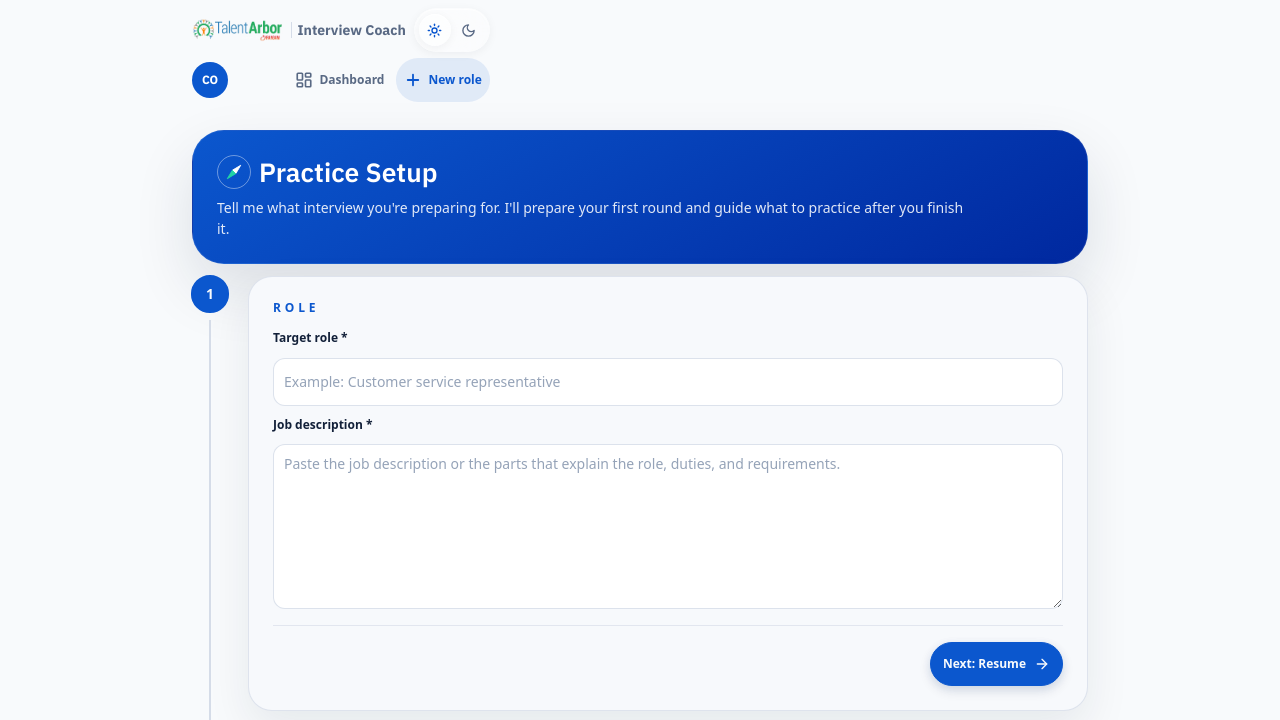
Test: places app-account logout inside the setup avatar instead of the navigation dock
This screenshot has width=1280, height=720.
Expected: the element named "Open account menu for Candidate One" is shown, [192,58,490,102]
Expected: the element named "Candidate" is shown, [287,58,490,102]
Click the button with aria-label "Open account menu for Candidate One". click: x=210, y=80
box: [192,62,228,98]
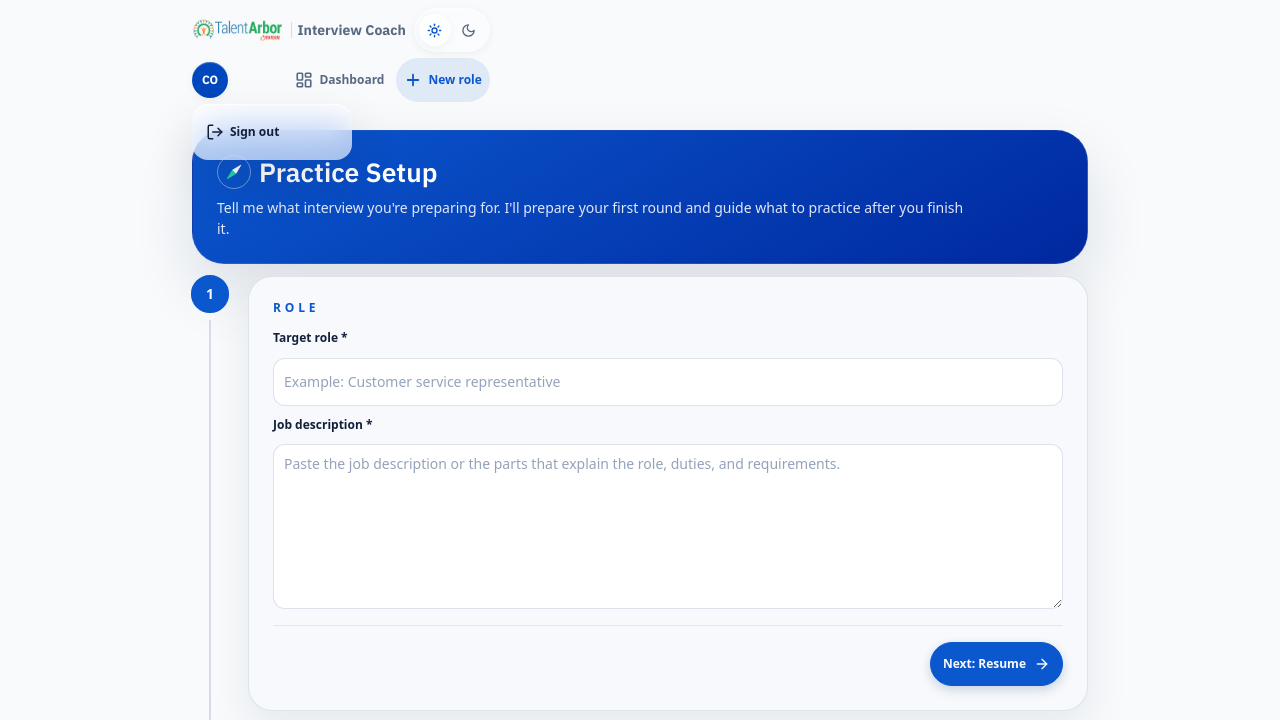
Now the button "Sign out" is shown, box [198,110,346,154]
